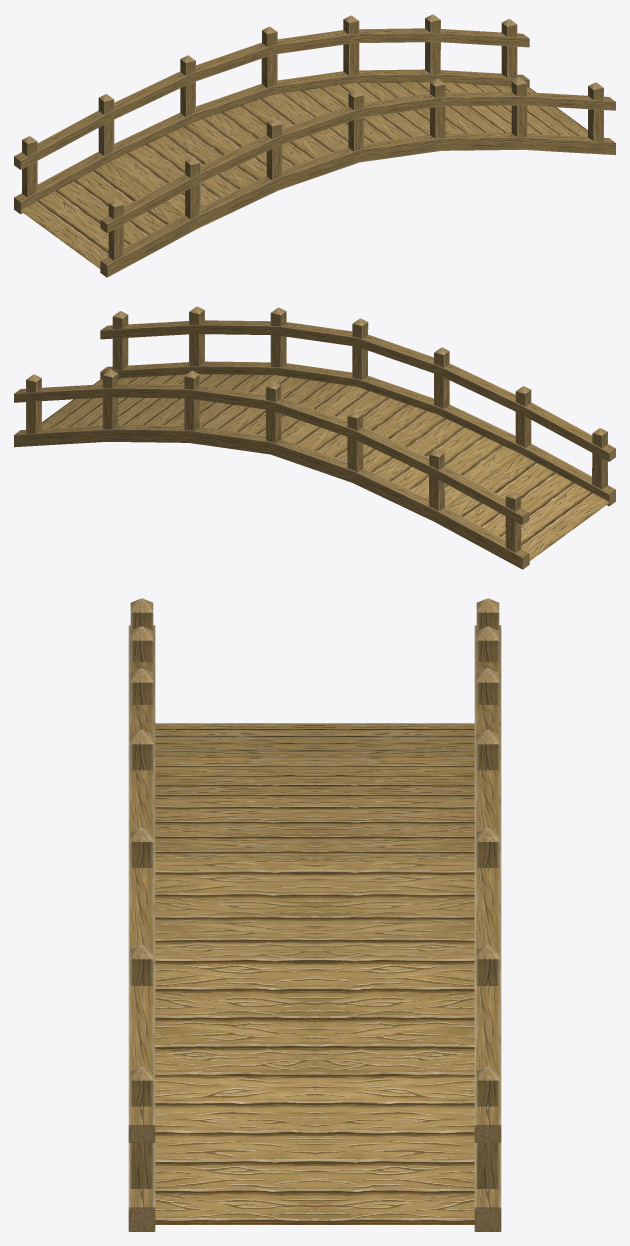
File: SC_SLqiao01.FBX
The picture shows the model from 3 angles, top to bottom: view 1: azimuth 30°, elevation 25°; view 2: azimuth 150°, elevation 25°; view 3: azimuth 270°, elevation 25°; orthographic projection. The views are drawn at different scales.
Parts seen in each view (by area): view 1: SC_SLqiao01; view 2: SC_SLqiao01; view 3: SC_SLqiao01.
Boxes of the visible parts, <box> form: SC_SLqiao01: <box>14,14,615,277</box>; SC_SLqiao01: <box>14,306,615,569</box>; SC_SLqiao01: <box>128,598,501,1231</box>.
Size of the model in its own units: 728 by 172 by 231.
